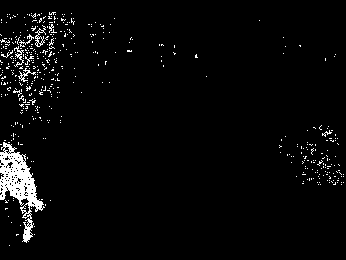person: (3, 141, 45, 243)
